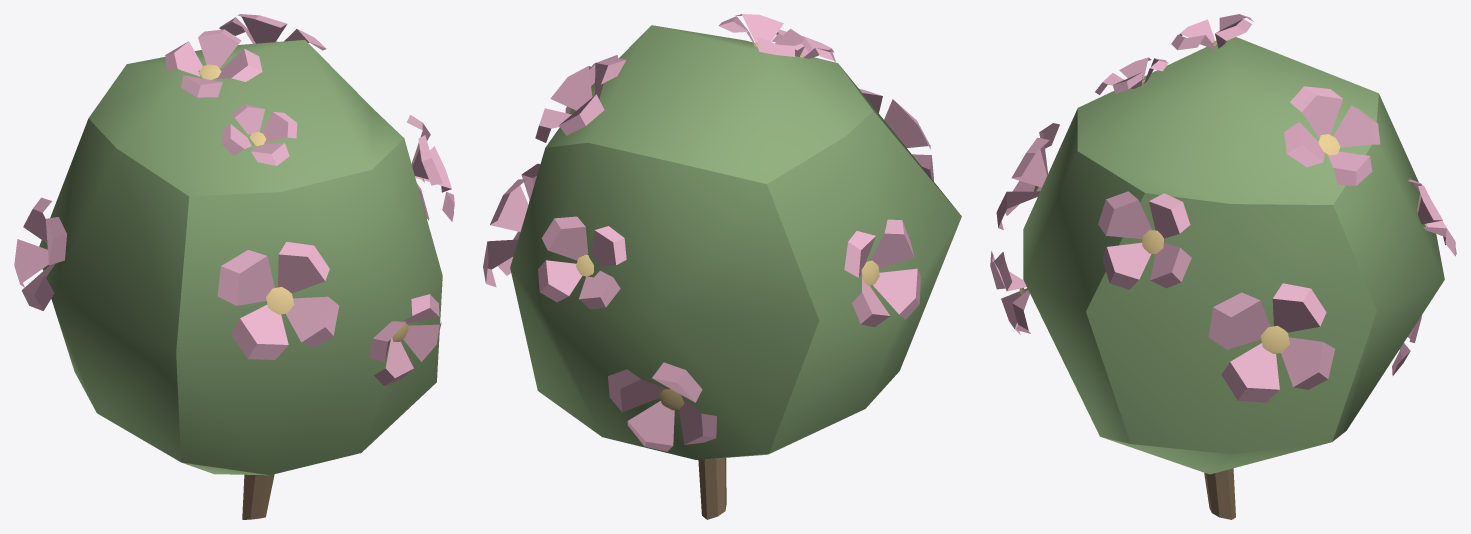
Rendered from pinkFlower.fbx.
The picture shows the model from 3 angles, left to right: view 1: azimuth 30°, elevation 25°; view 2: azimuth 150°, elevation 25°; view 3: azimuth 270°, elevation 25°; orthographic projection. The views are drawn at different scales.
Visible parts, largest first — view 1: bush01, flowerPetals01 (×7), shrubStem01, flowerPollen01; view 2: bush01, flowerPetals01 (×8), shrubStem01; view 3: bush01, flowerPetals01 (×8), shrubStem01, flowerPollen01.
Part boxes in pixels (left/top/right/bottom): bush01: left=39, top=40, right=442, bottom=475; flowerPetals01 (×7): left=14, top=14, right=454, bottom=385; shrubStem01: left=242, top=474, right=274, bottom=519; flowerPollen01: left=266, top=287, right=294, bottom=314; bush01: left=510, top=25, right=961, bottom=459; flowerPetals01 (×8): left=483, top=14, right=933, bottom=451; shrubStem01: left=698, top=458, right=726, bottom=519; bush01: left=1023, top=37, right=1444, bottom=474; flowerPetals01 (×8): left=990, top=14, right=1456, bottom=402; shrubStem01: left=1204, top=468, right=1235, bottom=519; flowerPollen01: left=1260, top=325, right=1289, bottom=353.
Size of the model in its own units: 0.6134 by 0.7357 by 0.6482.
